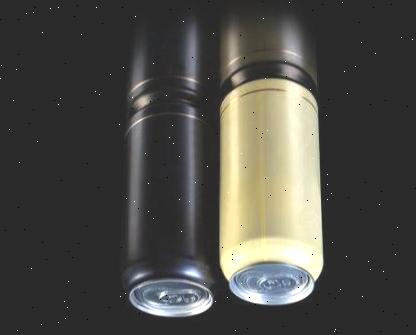Can: (216, 69, 324, 305), (118, 85, 220, 317)
